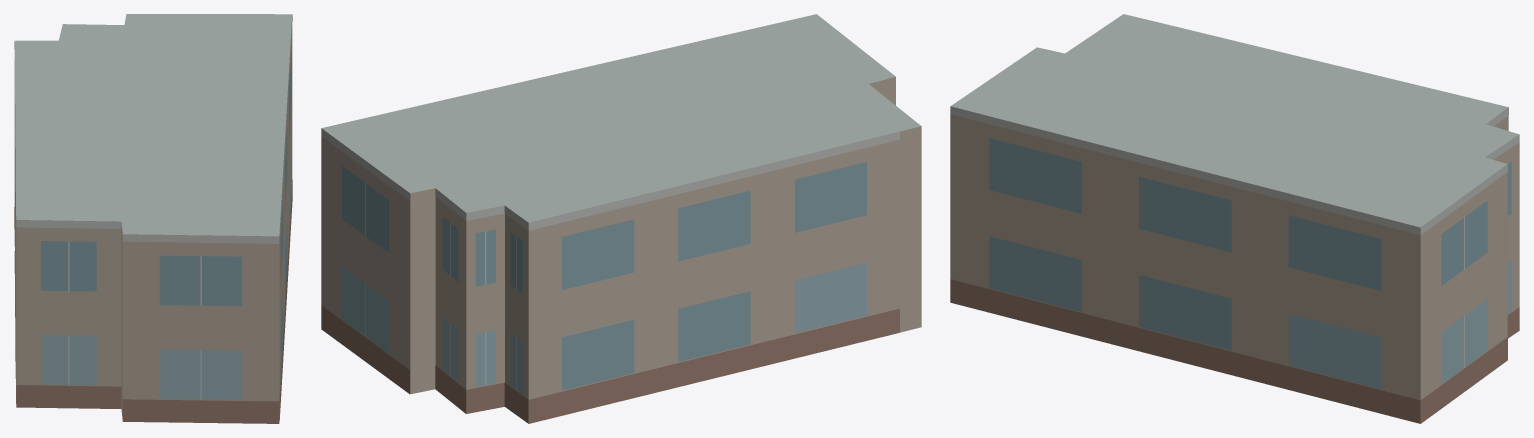
Rendered from survey-upis-32911054.glb.
3 renders of one model, left to right at view 1: azimuth 30°, elevation 25°; view 2: azimuth 150°, elevation 25°; view 3: azimuth 270°, elevation 25°, orthographic. The views are drawn at different scales.
Parts seen in each view (by area): view 1: survey-upis-32911054.tmp; view 2: survey-upis-32911054.tmp; view 3: survey-upis-32911054.tmp.
Part boxes in pixels (box(x1,y1,x2,y2)): survey-upis-32911054.tmp: box(14, 14, 292, 423); survey-upis-32911054.tmp: box(321, 14, 921, 423); survey-upis-32911054.tmp: box(950, 14, 1519, 423).
Size of the model in its own units: 14.23 by 6.1 by 16.03.
